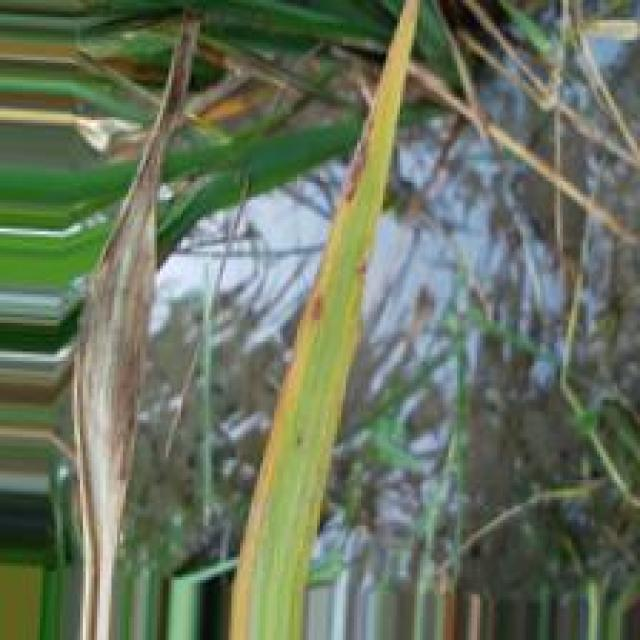Leaf_Blast: (226, 0, 424, 640)
